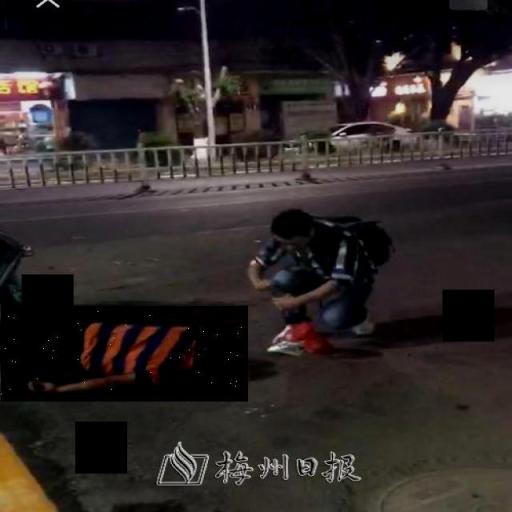Fall: (1, 307, 248, 403)
